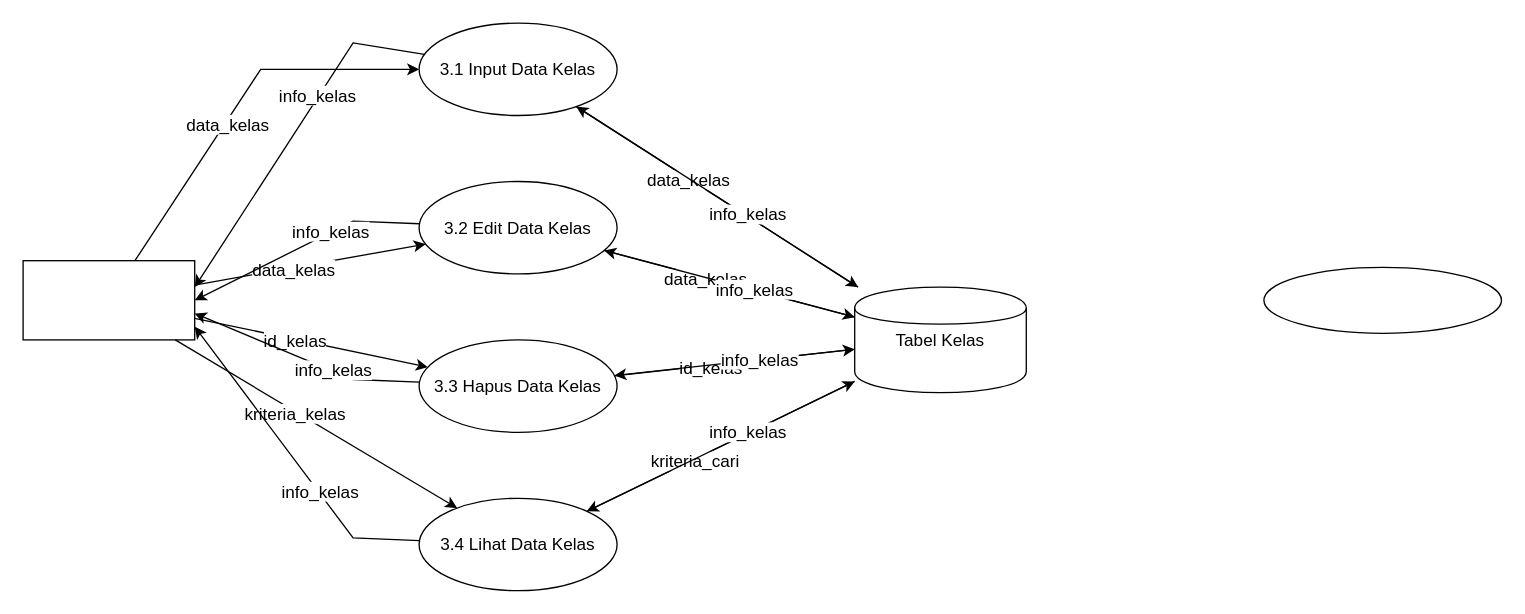
This 1525x614 diagram has some shape labels left out. The shapes that lost their labels are listed below. From the top down, each one's centre as x and y in pixels, then its label:
At point (108, 299): "Kepala Perpustakaan".
At point (1382, 299): "3. Pengelolaan Data Kelas".
